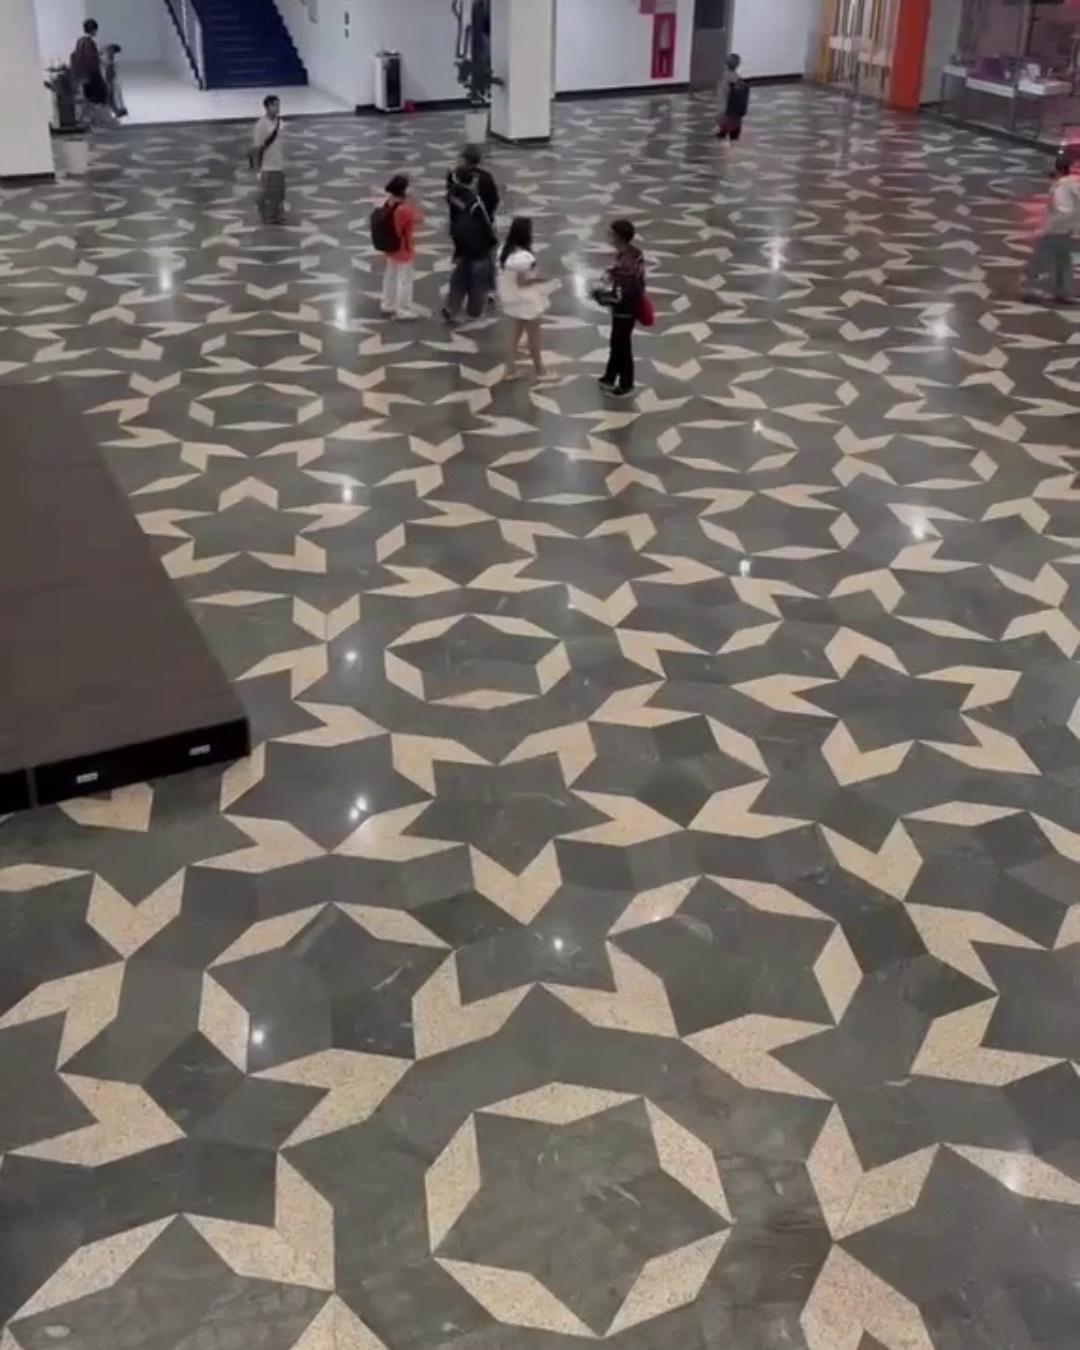your_class: (587, 218, 656, 402), (496, 216, 564, 381), (441, 166, 494, 326), (1026, 154, 1080, 306), (369, 174, 423, 323), (445, 143, 499, 268), (246, 94, 289, 227), (713, 53, 750, 176), (71, 20, 111, 116)
